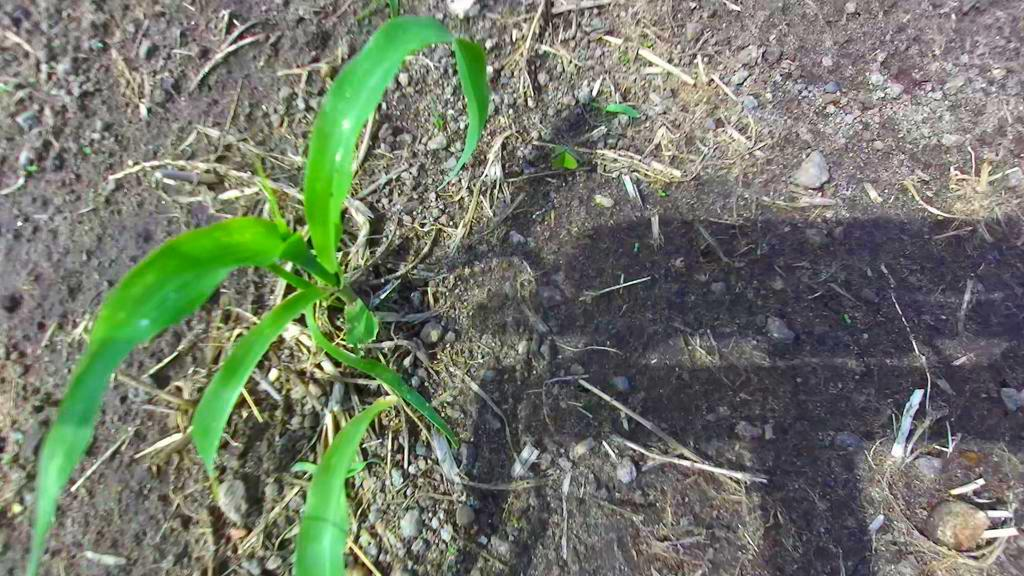BroWeed: (289, 461, 364, 477), (549, 142, 584, 172), (589, 100, 642, 119), (12, 487, 37, 526), (422, 95, 447, 134), (439, 538, 461, 574), (0, 496, 25, 520), (589, 190, 617, 210), (957, 449, 985, 468), (76, 134, 95, 158), (7, 428, 28, 449), (264, 553, 284, 575), (282, 550, 299, 570), (51, 328, 71, 343), (0, 525, 10, 554), (87, 38, 105, 53), (0, 453, 20, 465), (840, 310, 853, 326), (611, 47, 622, 64), (655, 187, 669, 199), (618, 53, 630, 64), (645, 37, 657, 47), (25, 164, 39, 172), (632, 241, 640, 254)
Maize: (283, 383, 396, 576), (358, 525, 374, 548)
